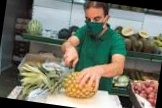Pineapple: (17, 60, 99, 100)
